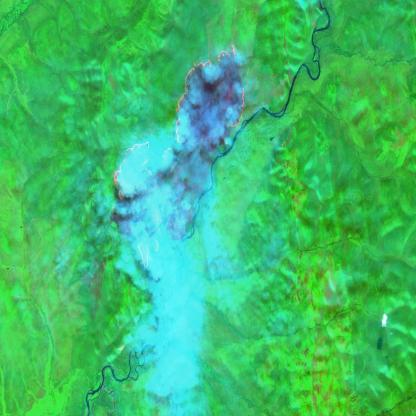fire: (114, 38, 246, 204)
